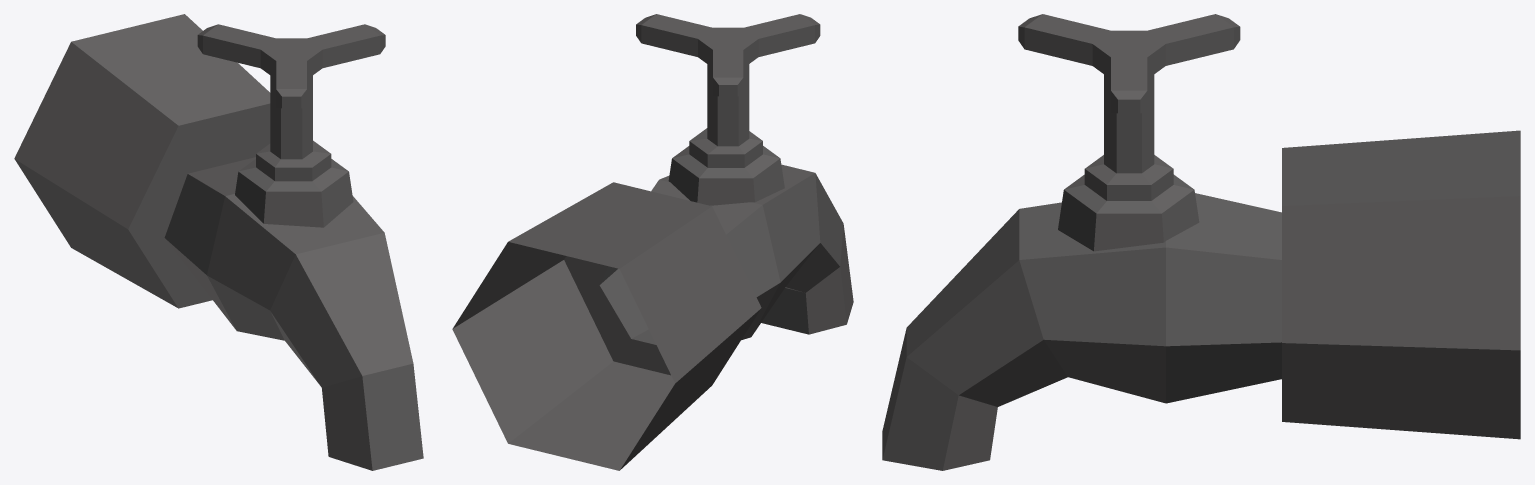
File: SM_Spigot.fbx
3 renders of one model, left to right at view 1: azimuth 30°, elevation 25°; view 2: azimuth 150°, elevation 25°; view 3: azimuth 270°, elevation 25°, orthographic. The views are drawn at different scales.
Visible parts, largest first — view 1: Spigot; view 2: Spigot; view 3: Spigot.
Boxes of the visible parts, x1,y1,x2,y2 form: Spigot: (14,14,423,470); Spigot: (452,14,853,470); Spigot: (882,14,1520,470).
Size of the model in its own units: 0.1188 by 0.1693 by 0.2445.
